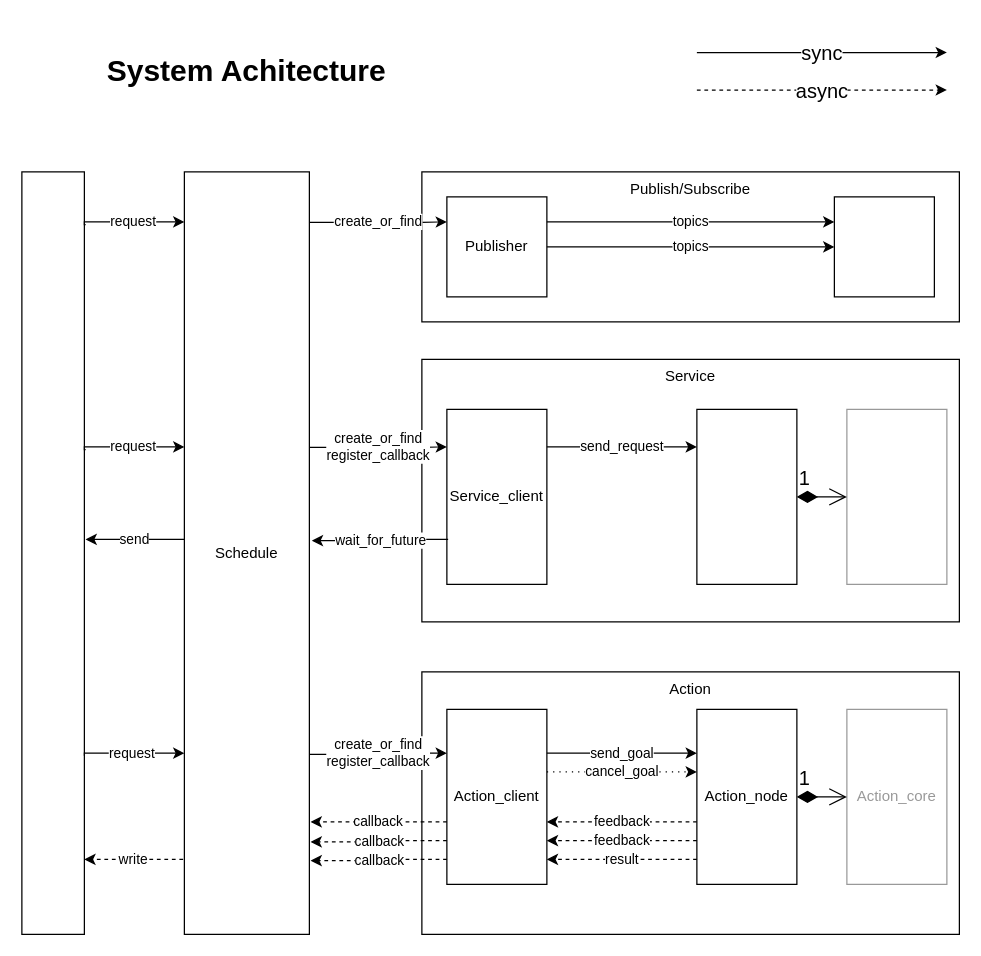
This 981x956 diagram has some shape labels left out. The centre of each missing label's shape, as x and y in pixels:
"Service_core" belongs at (x=896, y=496).
"Service_node" belongs at (x=746, y=496).
"Subscriber" belongs at (x=883, y=246).
"User" belongs at (x=52, y=552).
